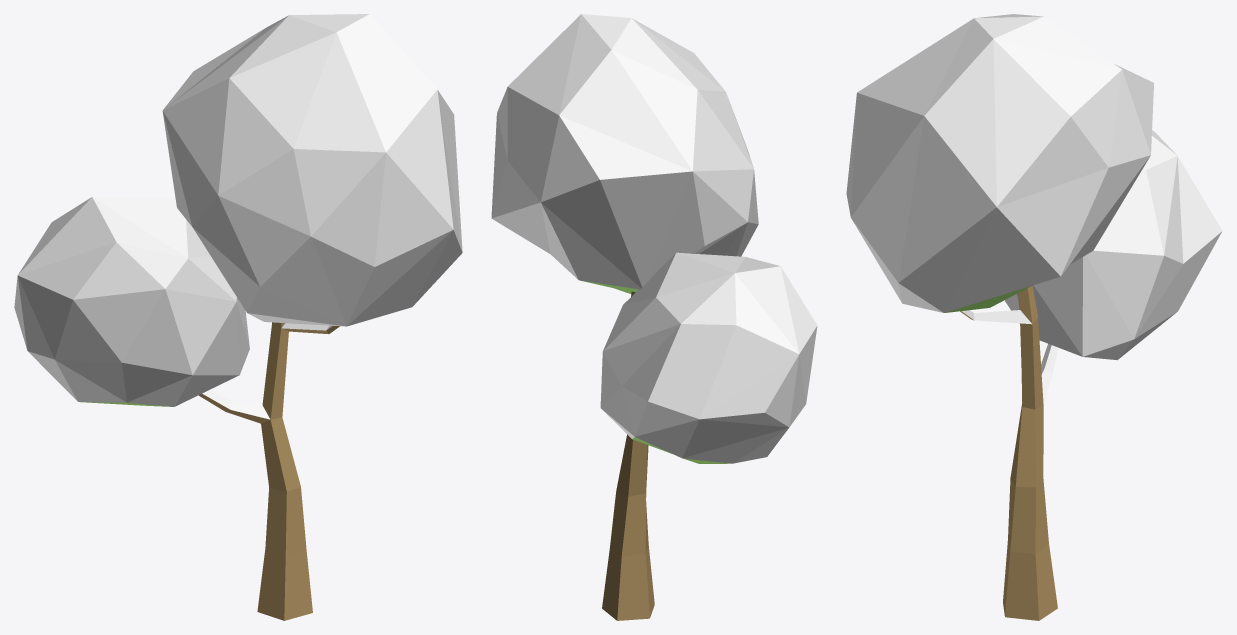
Rendered from Oak_Tree_m_Snow_08_LOD.fbx.
The picture shows the model from 3 angles, left to right: view 1: azimuth 30°, elevation 25°; view 2: azimuth 150°, elevation 25°; view 3: azimuth 270°, elevation 25°; orthographic projection. The views are drawn at different scales.
Parts seen in each view (by area): view 1: Oak_Tree_m_Snow_08_LOD0; view 2: Oak_Tree_m_Snow_08_LOD0; view 3: Oak_Tree_m_Snow_08_LOD0.
Part boxes in pixels (x1,y1,x2,y2): Oak_Tree_m_Snow_08_LOD0: [14, 14, 462, 620]; Oak_Tree_m_Snow_08_LOD0: [491, 14, 817, 620]; Oak_Tree_m_Snow_08_LOD0: [846, 14, 1222, 620].
Size of what is drawn, in the model's own units: 501 by 753 by 425.
